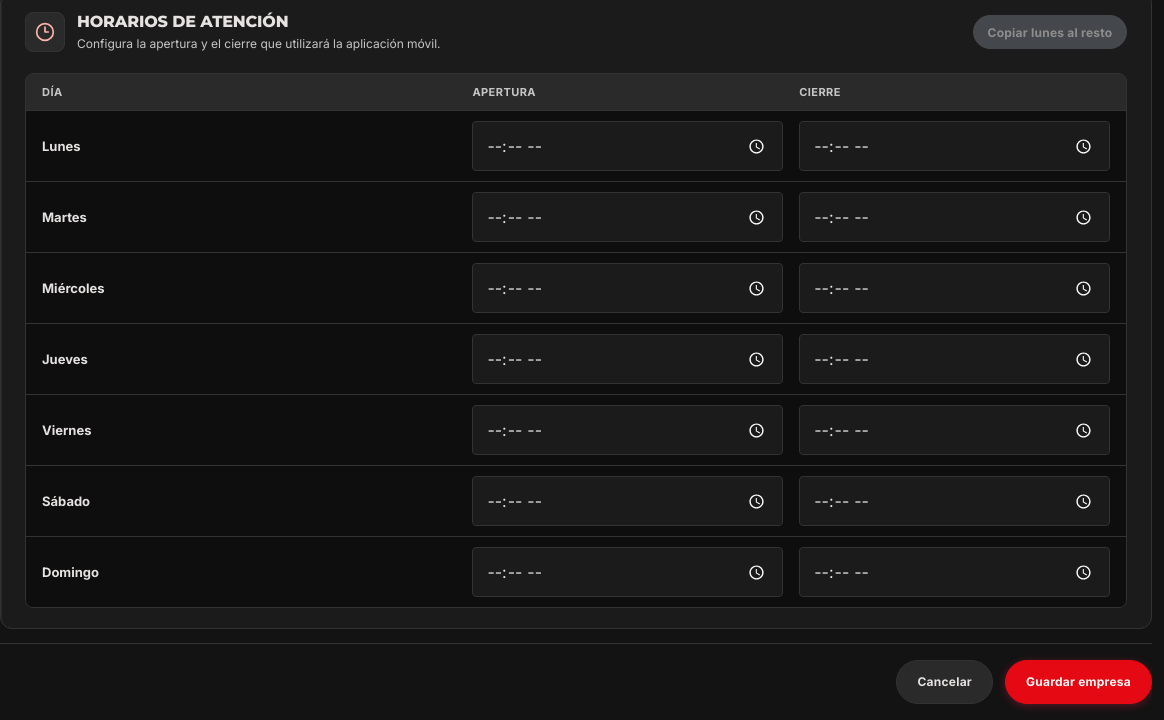
Test: EmpresaForm › copia el horario del lunes al resto de la semana
(page scrolled)
expect the button with class "horarios-encabezado__accion" is disabled: met, box 973,16 -> 1127,49
Type "07:30" into the time field with id "horario-inicio-lunes" at (628, 146), box 472,121 -> 783,171
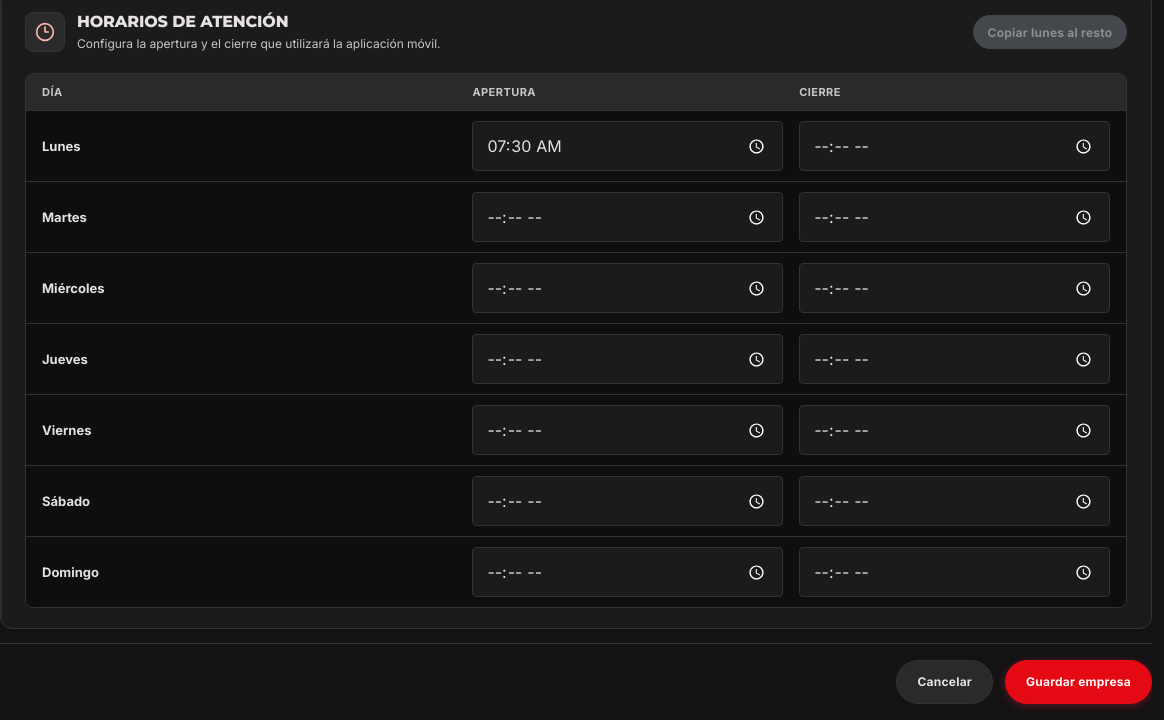
Type "21:15" into the time field with id "horario-fin-lunes" at (955, 146), box 799,121 -> 1110,171
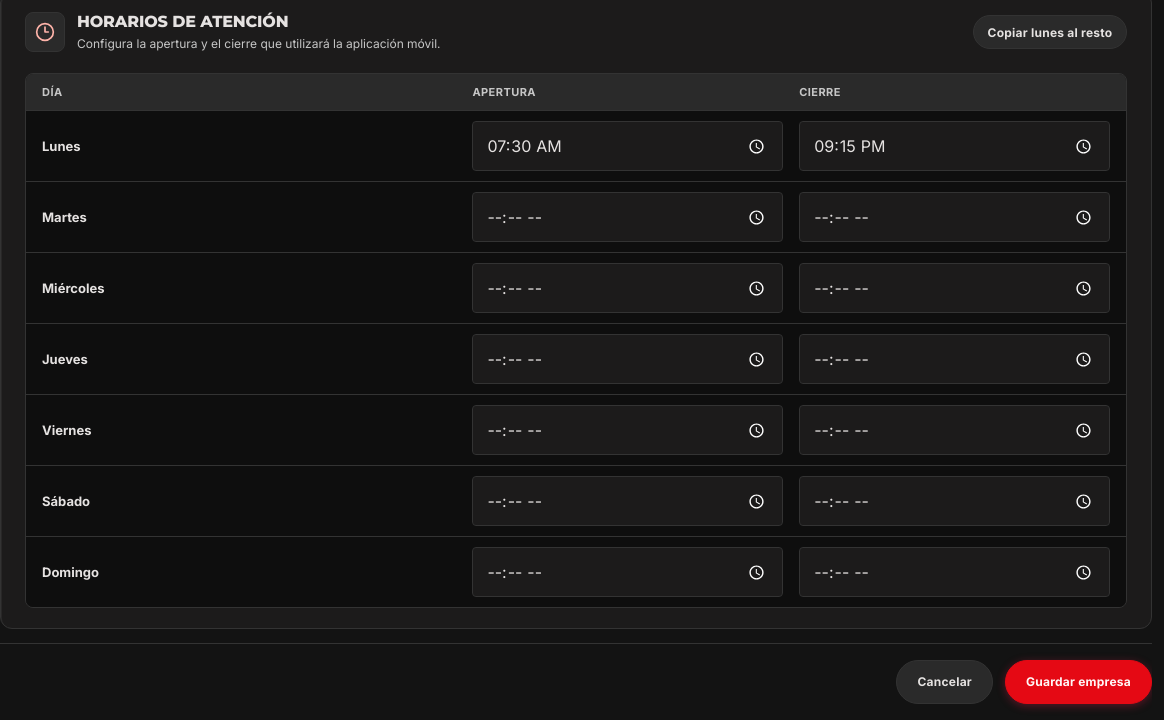
expect the button with class "horarios-encabezado__accion" is enabled: met
Click the button with class "horarios-encabezado__accion" at (1050, 32), box 973,16 -> 1127,49
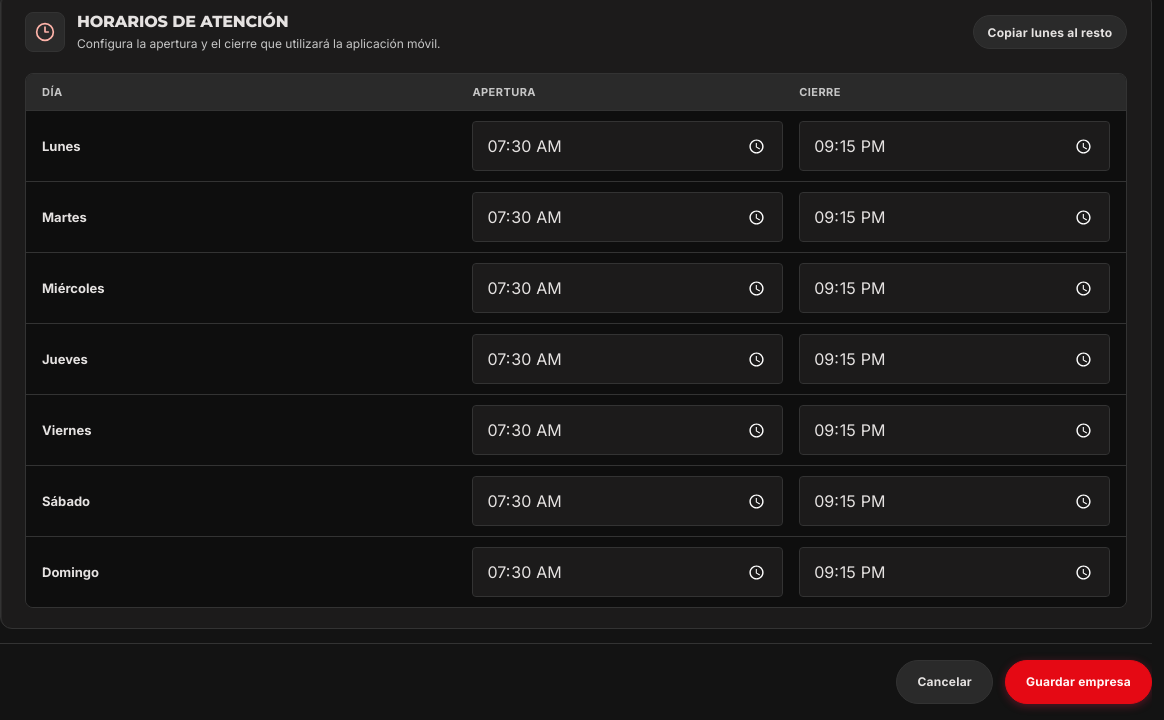
expect the time field with id "horario-inicio-domingo" holds "07:30": met, box 472,547 -> 783,597
expect the time field with id "horario-fin-domingo" holds "21:15": met, box 799,547 -> 1110,597
